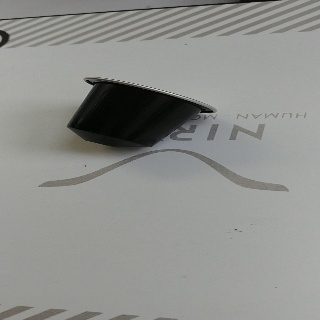capsule_10: (66, 75, 219, 149)
